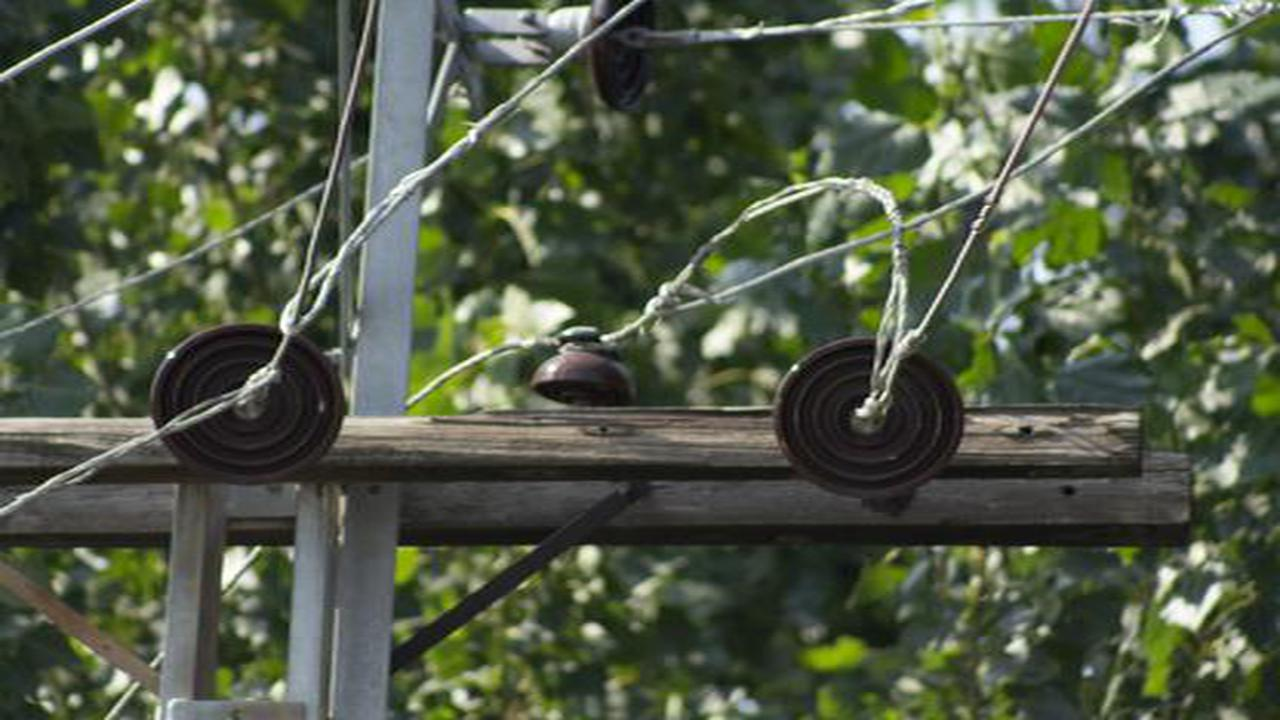insulator_disc: (767, 325, 980, 509), (148, 315, 352, 485)
insulator_pin: (525, 314, 645, 419)
